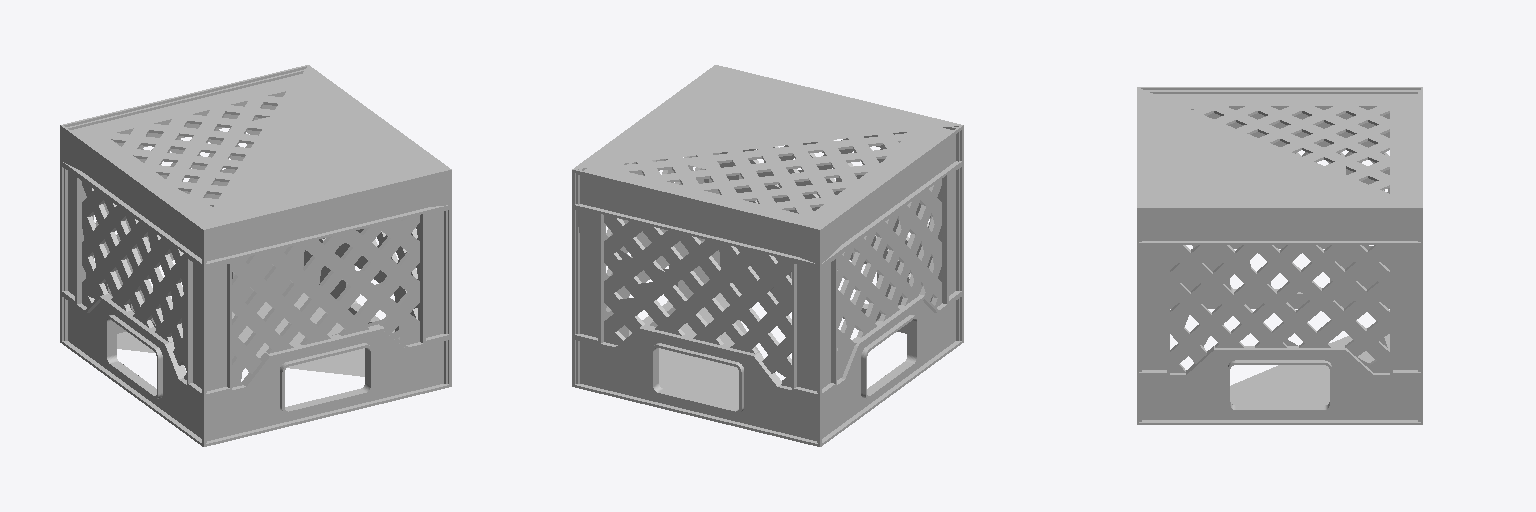
File: Crate_4__118827_.obj
3 views of the same model, side by side, from view 1: azimuth 30°, elevation 25°; view 2: azimuth 150°, elevation 25°; view 3: azimuth 270°, elevation 25° (orthographic).
Parts seen in each view (by area): view 1: Crate_4__118827__temp_Crate_4__118827_.004; view 2: Crate_4__118827__temp_Crate_4__118827_.004; view 3: Crate_4__118827__temp_Crate_4__118827_.004.
Part boxes in pixels (x1,y1,x2,y2): Crate_4__118827__temp_Crate_4__118827_.004: (60, 65, 451, 446); Crate_4__118827__temp_Crate_4__118827_.004: (572, 65, 963, 446); Crate_4__118827__temp_Crate_4__118827_.004: (1137, 87, 1422, 424).
Size of the model in its own units: 0.3334 by 0.2789 by 0.3334.